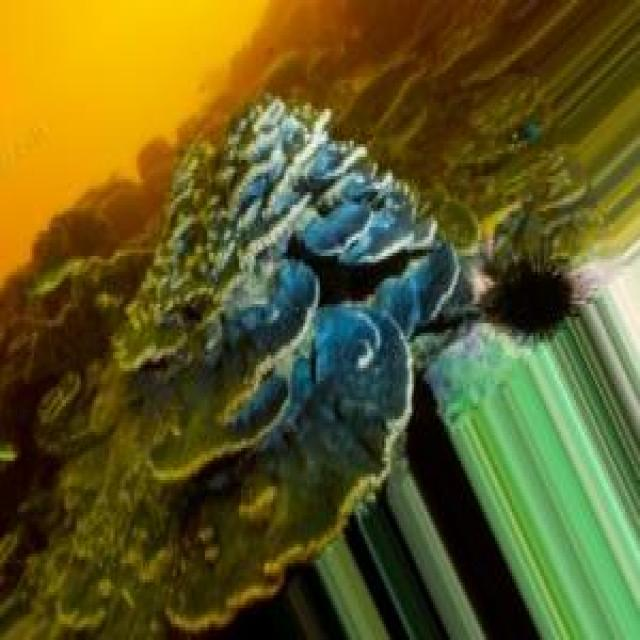Healthy: (56, 94, 464, 539)
